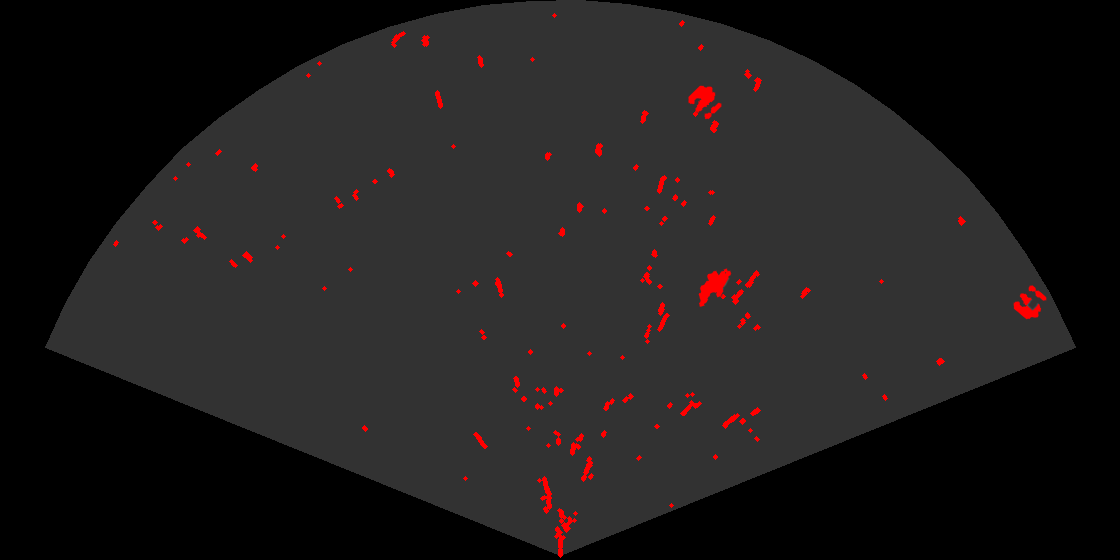AUV: (697, 267, 733, 309)
ball: (687, 84, 723, 121), (1012, 284, 1048, 321)
